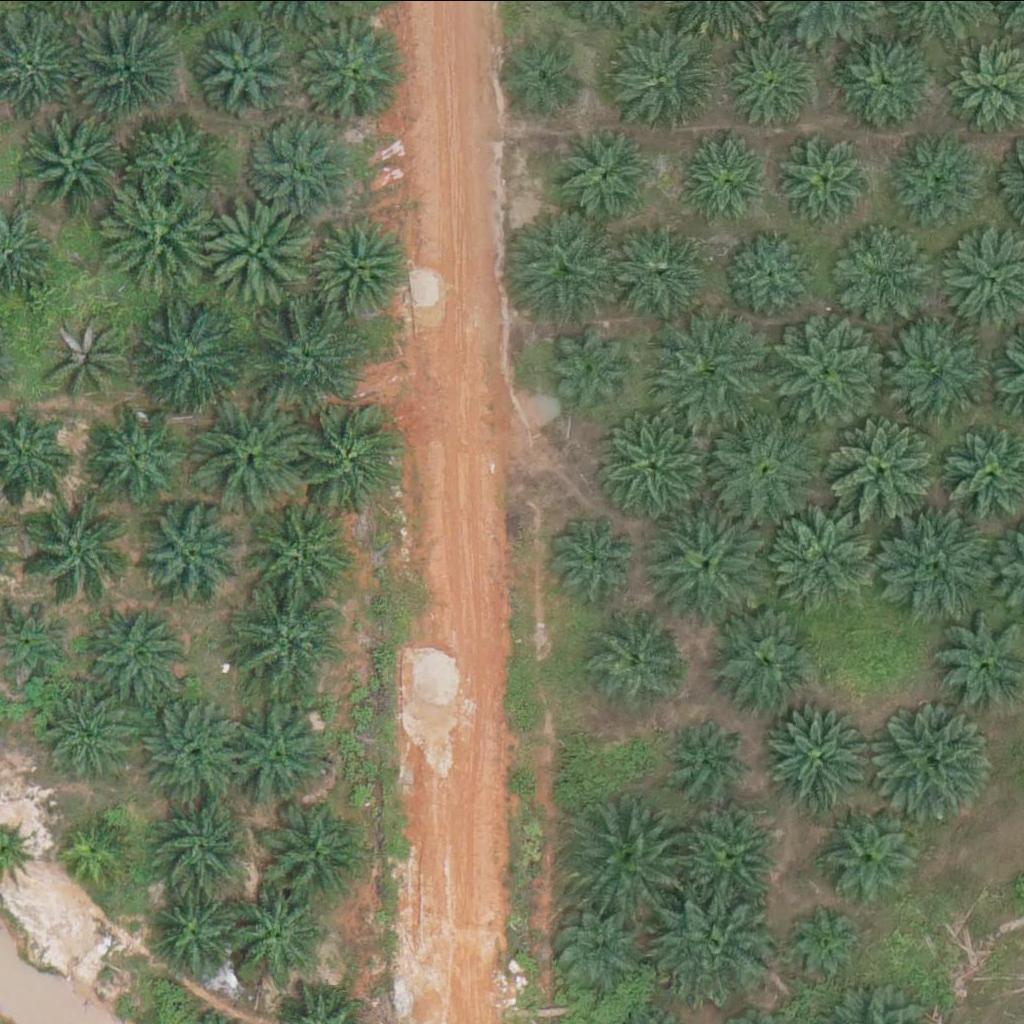Kelapa_Sawit: (774, 311, 888, 424), (879, 707, 993, 820), (294, 10, 408, 123), (659, 311, 772, 424), (829, 413, 942, 526), (600, 413, 713, 526), (770, 499, 883, 612), (607, 28, 720, 141), (73, 11, 186, 124), (294, 399, 407, 512), (135, 694, 248, 807), (223, 697, 336, 810), (262, 795, 375, 908), (878, 312, 992, 424), (706, 415, 820, 527), (501, 212, 615, 324), (15, 488, 129, 600), (232, 590, 346, 702), (649, 502, 762, 614), (885, 505, 998, 617), (765, 697, 878, 809), (578, 800, 691, 912), (657, 890, 770, 1002), (885, 129, 998, 241), (832, 222, 945, 334), (17, 107, 130, 219), (100, 184, 213, 296), (198, 197, 311, 309), (253, 295, 366, 407), (132, 299, 245, 411), (194, 401, 307, 513), (251, 500, 364, 612), (543, 508, 644, 608), (716, 613, 817, 713), (676, 806, 777, 906), (543, 900, 644, 1000), (837, 27, 938, 127), (774, 126, 875, 226), (613, 222, 714, 322), (203, 18, 304, 118), (247, 117, 348, 217), (140, 505, 241, 605), (91, 605, 192, 705), (157, 797, 258, 897), (148, 882, 249, 982), (593, 609, 693, 709), (818, 805, 918, 905), (672, 130, 772, 230), (548, 123, 648, 223), (310, 218, 410, 318), (82, 407, 182, 507), (39, 682, 139, 782), (228, 887, 328, 987), (498, 31, 586, 119), (726, 38, 814, 126), (131, 119, 219, 207), (546, 320, 634, 407), (667, 713, 755, 800), (784, 900, 872, 987), (731, 225, 819, 312), (44, 310, 132, 397), (62, 814, 137, 889)
